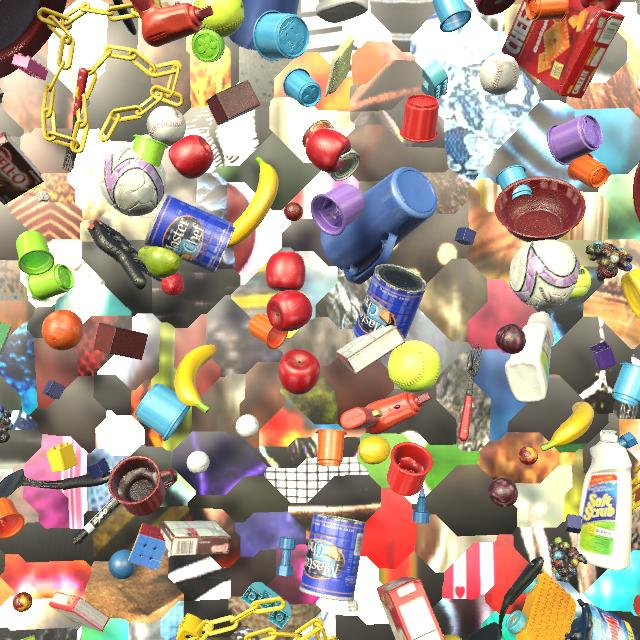ycb_002_master_chef_can: (144, 193, 235, 274), (352, 264, 427, 355), (299, 513, 366, 601)
ycb_003_cracker_box: (501, 0, 625, 99), (377, 577, 445, 640)
ycb_005_tomato_soup_can: (302, 120, 360, 181)
ycb_006_mustard_bottle: (621, 268, 640, 319)
ycb_008_pudding_box: (336, 325, 406, 374), (0, 132, 44, 205), (160, 520, 231, 556), (0, 89, 4, 104)
ycb_009_gelatin_box: (49, 591, 110, 632)
ycb_011_banana: (227, 157, 279, 248), (175, 345, 217, 413), (540, 402, 594, 452)
ycb_012_strawberry: (161, 273, 184, 296)
ycb_013_apple: (168, 135, 214, 179), (306, 129, 351, 173), (278, 349, 320, 395), (267, 290, 312, 332), (265, 251, 306, 291), (580, 0, 622, 12)
ycb_014_lemon: (358, 436, 390, 464), (444, 634, 462, 640)
ycb_016_pear: (138, 246, 182, 278)
ycb_017_orange: (42, 310, 83, 351)
ycb_018_plum: (495, 324, 526, 354), (488, 478, 518, 508)
